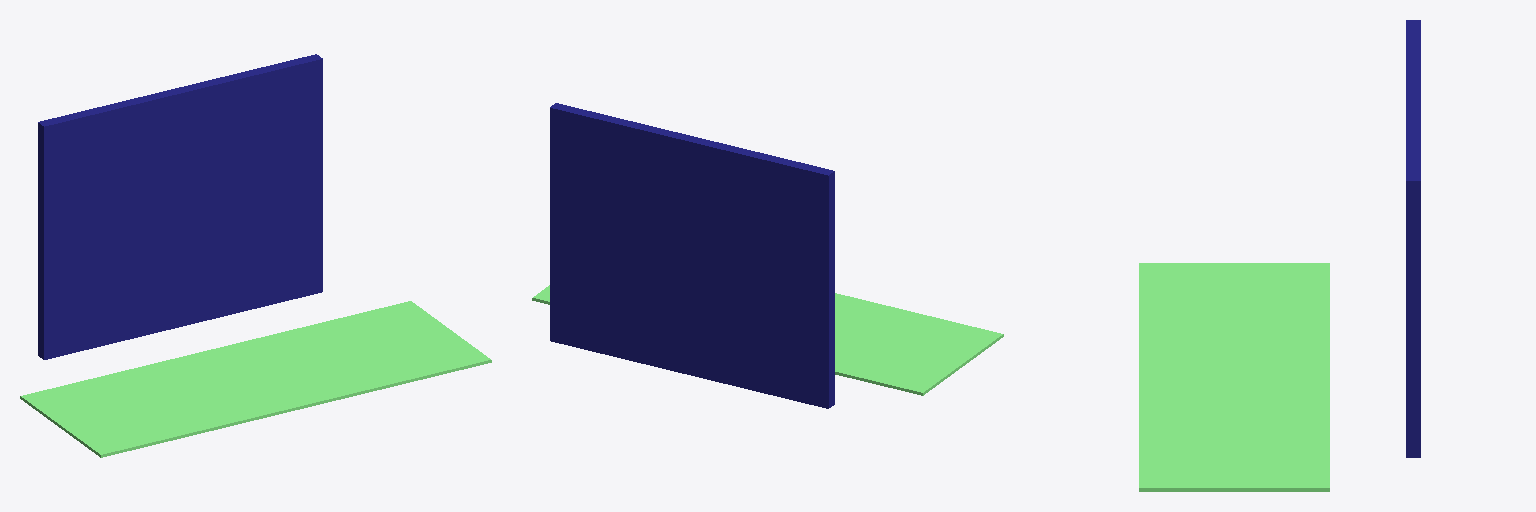
URDF robot description (dual_arm):
<?xml version="1.0" ?>
<!-- =================================================================================== -->
<!-- |    This document was autogenerated by xacro from ./dual.xacro                   | -->
<!-- |    EDITING THIS FILE BY HAND IS NOT RECOMMENDED                                 | -->
<!-- =================================================================================== -->
<robot name="dual_arm">
  <link name="world"/>
  <!-- wall behind robots -->
  <link name="base">
    <visual>
      <!-- <transparency value="0.8"/> -->
      <origin rpy="0 0 0" xyz="0 0.02 -.3"/>
      <geometry>
        <box size="1.0 0.04 0.8"/>
      </geometry>
      <material name="White">
        <color rgba="0.2 0.2 0.6 0.5"/>
      </material>
    </visual>
    <collision>
      <origin rpy="0 0 0" xyz="0 0.1 -.3"/>
      <geometry>
        <box size="1.0 0.04 0.8"/>
      </geometry>
    </collision>
    <inertial>
      <origin rpy="0 0 0" xyz="0.0 0.0 0.0"/>
      <mass value="10.0"/>
      <inertia ixx="0.001" ixy="0.0" ixz="0.001" iyy="0.0" iyz="0.0" izz="0.001"/>
    </inertial>
  </link>
  <!-- table -->
  <link name="table">
    <visual>
      <!-- <transparency value="0.8"/> -->
      <origin rpy="0 0 0" xyz="0 -0.45 0"/>
      <geometry>
        <box size="1.4 0.5 0.01"/>
      </geometry>
      <material name="White">
        <color rgba="0.6 1.0 0.6 0.5"/>
      </material>
    </visual>
    <collision>
      <origin rpy="0 0 0" xyz="0 -0.45 0"/>
      <geometry>
        <box size="1.4 0.5 0.01"/>
      </geometry>
    </collision>
    <inertial>
      <origin rpy="0.0 0.0 0.0" xyz="0.0 -0.45 0.0"/>
      <mass value="10.0"/>
      <inertia ixx="0.001" ixy="0.0" ixz="0.001" iyy="0.0" iyz="0.0" izz="0.001"/>
    </inertial>
  </link>
  <joint name="base_to_world" type="fixed">
    <parent link="world"/>
    <child link="base"/>
    <origin rpy="0 0 0" xyz="0 0 0.7"/>
  </joint>
  <joint name="table_to_world" type="fixed">
    <parent link="world"/>
    <child link="table"/>
    <origin rpy="0 0 0" xyz="0 0 0"/>
  </joint>
  <!--
    Base UR robot series xacro macro.

    NOTE this is NOT a URDF. It cannot directly be loaded by consumers
    expecting a flattened '.urdf' file. See the top-level '.xacro' for that
    (but note that .xacro must still be processed by the xacro command).

    This file models the base kinematic chain of a UR robot, which then gets
    parameterised by various configuration files to convert it into a UR3(e),
    UR5(e), UR10(e) or UR16e.

    NOTE the default kinematic parameters (i.e., link lengths, frame locations,
    offsets, etc) do not correspond to any particular robot. They are defaults
    only. There WILL be non-zero offsets between the Forward Kinematics results
    in TF (i.e., robot_state_publisher) and the values reported by the Teach
    Pendant.

    For accurate (and robot-specific) transforms, the 'kinematics_parameters_file'
    parameter MUST point to a .yaml file containing the appropriate values for
    the targeted robot.

    If using the UniversalRobots/Universal_Robots_ROS_Driver, follow the steps
    described in the readme of that repository to extract the kinematic
    calibration from the controller and generate the required .yaml file.

    Main author of the migration to yaml configs [author].

    Contributors to previous versions (in no particular order)

     - [author]
     - [author]
     - [author]
     - [author]
     - [author]
     - [author]
     - [author]
     - [author]
     - [author]
     - [author]
     - [author]
     - [author]
     - [author]
     - [author]
     - [author]
     - [author]
     - [author]
     - [author]
     - [author]
  -->
  <!-- links -  main serial chain -->
  <link name="lightning_base_link"/>
  <link name="lightning_base_link_inertia">
    <visual>
      <origin rpy="0 0 3.141592653589793" xyz="0 0 0"/>
      <geometry>
        <mesh filename="package://ur_description/meshes/ur5e/visual/base.dae"/>
      </geometry>
    </visual>
    <collision>
      <origin rpy="0 0 3.141592653589793" xyz="0 0 0"/>
      <geometry>
        <mesh filename="package://ur_description/meshes/ur5e/collision/base.stl"/>
      </geometry>
    </collision>
    <inertial>
      <mass value="4.0"/>
      <origin rpy="0 0 0" xyz="0 0 0"/>
      <inertia ixx="0.00443333156" ixy="0.0" ixz="0.0" iyy="0.00443333156" iyz="0.0" izz="0.0072"/>
    </inertial>
  </link>
  <link name="lightning_shoulder_link">
    <visual>
      <origin rpy="0 0 3.141592653589793" xyz="0 0 0"/>
      <geometry>
        <mesh filename="package://ur_description/meshes/ur5e/visual/shoulder.dae"/>
      </geometry>
    </visual>
    <collision>
      <origin rpy="0 0 3.141592653589793" xyz="0 0 0"/>
      <geometry>
        <mesh filename="package://ur_description/meshes/ur5e/collision/shoulder.stl"/>
      </geometry>
    </collision>
    <inertial>
      <mass value="3.7"/>
      <origin rpy="0 0 0" xyz="0 0 0"/>
      <inertia ixx="0.010267495893" ixy="0.0" ixz="0.0" iyy="0.010267495893" iyz="0.0" izz="0.00666"/>
    </inertial>
  </link>
  <link name="lightning_upper_arm_link">
    <visual>
      <origin rpy="1.5707963267948966 0 -1.5707963267948966" xyz="0 0 0.138"/>
      <geometry>
        <mesh filename="package://ur_description/meshes/ur5e/visual/upperarm.dae"/>
      </geometry>
    </visual>
    <collision>
      <origin rpy="1.5707963267948966 0 -1.5707963267948966" xyz="0 0 0.138"/>
      <geometry>
        <mesh filename="package://ur_description/meshes/ur5e/collision/upperarm.stl"/>
      </geometry>
    </collision>
    <inertial>
      <mass value="8.393"/>
      <origin rpy="0 1.5707963267948966 0" xyz="-0.2125 0.0 0.138"/>
      <inertia ixx="0.1338857818623325" ixy="0.0" ixz="0.0" iyy="0.1338857818623325" iyz="0.0" izz="0.0151074"/>
    </inertial>
  </link>
  <link name="lightning_forearm_link">
    <visual>
      <origin rpy="1.5707963267948966 0 -1.5707963267948966" xyz="0 0 0.007"/>
      <geometry>
        <mesh filename="package://ur_description/meshes/ur5e/visual/forearm.dae"/>
      </geometry>
    </visual>
    <collision>
      <origin rpy="1.5707963267948966 0 -1.5707963267948966" xyz="0 0 0.007"/>
      <geometry>
        <mesh filename="package://ur_description/meshes/ur5e/collision/forearm.stl"/>
      </geometry>
    </collision>
    <inertial>
      <mass value="2.275"/>
      <origin rpy="0 1.5707963267948966 0" xyz="-0.1961 0.0 0.007"/>
      <inertia ixx="0.031209355099586295" ixy="0.0" ixz="0.0" iyy="0.031209355099586295" iyz="0.0" izz="0.004095"/>
    </inertial>
  </link>
  <link name="lightning_wrist_1_link">
    <visual>
      <origin rpy="1.5707963267948966 0 0" xyz="0 0 -0.127"/>
      <geometry>
        <mesh filename="package://ur_description/meshes/ur5e/visual/wrist1.dae"/>
      </geometry>
    </visual>
    <collision>
      <origin rpy="1.5707963267948966 0 0" xyz="0 0 -0.127"/>
      <geometry>
        <mesh filename="package://ur_description/meshes/ur5e/collision/wrist1.stl"/>
      </geometry>
    </collision>
    <inertial>
      <mass value="1.219"/>
      <origin rpy="0 0 0" xyz="0 0 0"/>
      <inertia ixx="0.0025598989760400002" ixy="0.0" ixz="0.0" iyy="0.0025598989760400002" iyz="0.0" izz="0.0021942"/>
    </inertial>
  </link>
  <link name="lightning_wrist_2_link">
    <visual>
      <origin rpy="0 0 0" xyz="0 0 -0.0997"/>
      <geometry>
        <mesh filename="package://ur_description/meshes/ur5e/visual/wrist2.dae"/>
      </geometry>
    </visual>
    <collision>
      <origin rpy="0 0 0" xyz="0 0 -0.0997"/>
      <geometry>
        <mesh filename="package://ur_description/meshes/ur5e/collision/wrist2.stl"/>
      </geometry>
    </collision>
    <inertial>
      <mass value="1.219"/>
      <origin rpy="0 0 0" xyz="0 0 0"/>
      <inertia ixx="0.0025598989760400002" ixy="0.0" ixz="0.0" iyy="0.0025598989760400002" iyz="0.0" izz="0.0021942"/>
    </inertial>
  </link>
  <link name="lightning_wrist_3_link">
    <visual>
      <origin rpy="1.5707963267948966 0 0" xyz="0 0 -0.0989"/>
      <geometry>
        <mesh filename="package://ur_description/meshes/ur5e/visual/wrist3.dae"/>
      </geometry>
    </visual>
    <collision>
      <origin rpy="1.5707963267948966 0 0" xyz="0 0 -0.0989"/>
      <geometry>
        <mesh filename="package://ur_description/meshes/ur5e/collision/wrist3.stl"/>
      </geometry>
    </collision>
    <inertial>
      <mass value="0.1879"/>
      <origin rpy="0 0 0" xyz="0.0 0.0 -0.0229"/>
      <inertia ixx="9.890410052167731e-05" ixy="0.0" ixz="0.0" iyy="9.890410052167731e-05" iyz="0.0" izz="0.0001321171875"/>
    </inertial>
  </link>
  <!-- base_joint fixes base_link to the environment -->
  <joint name="lightning_base_joint" type="fixed">
    <origin rpy="2.208 1.561 0.622" xyz="0.3715 0 0"/>
    <parent link="base"/>
    <child link="lightning_base_link"/>
  </joint>
  <!-- joints - main serial chain -->
  <joint name="lightning_base_link-base_link_inertia" type="fixed">
    <parent link="lightning_base_link"/>
    <child link="lightning_base_link_inertia"/>
    <!-- 'base_link' is REP-103 aligned (so X+ forward), while the internal
           frames of the robot/controller have X+ pointing backwards.
           Use the joint between 'base_link' and 'base_link_inertia' (a dummy
           link/frame) to introduce the necessary rotation over Z (of pi rad).
      -->
    <origin rpy="0 0 3.141592653589793" xyz="0 0 0"/>
  </joint>
  <joint name="lightning_shoulder_pan_joint" type="revolute">
    <parent link="lightning_base_link_inertia"/>
    <child link="lightning_shoulder_link"/>
    <origin rpy="0 0 0" xyz="0 0 0.1625"/>
    <axis xyz="0 0 1"/>
    <limit effort="150.0" lower="-6.283185307179586" upper="6.283185307179586" velocity="3.141592653589793"/>
    <dynamics damping="0" friction="0"/>
  </joint>
  <joint name="lightning_shoulder_lift_joint" type="revolute">
    <parent link="lightning_shoulder_link"/>
    <child link="lightning_upper_arm_link"/>
    <origin rpy="1.570796327 0 0" xyz="0 0 0"/>
    <axis xyz="0 0 1"/>
    <limit effort="150.0" lower="-6.283185307179586" upper="6.283185307179586" velocity="3.141592653589793"/>
    <dynamics damping="0" friction="0"/>
  </joint>
  <joint name="lightning_elbow_joint" type="revolute">
    <parent link="lightning_upper_arm_link"/>
    <child link="lightning_forearm_link"/>
    <origin rpy="0 0 0" xyz="-0.425 0 0"/>
    <axis xyz="0 0 1"/>
    <limit effort="150.0" lower="-3.141592653589793" upper="3.141592653589793" velocity="3.141592653589793"/>
    <dynamics damping="0" friction="0"/>
  </joint>
  <joint name="lightning_wrist_1_joint" type="revolute">
    <parent link="lightning_forearm_link"/>
    <child link="lightning_wrist_1_link"/>
    <origin rpy="0 0 0" xyz="-0.3922 0 0.1333"/>
    <axis xyz="0 0 1"/>
    <limit effort="28.0" lower="-6.283185307179586" upper="6.283185307179586" velocity="3.141592653589793"/>
    <dynamics damping="0" friction="0"/>
  </joint>
  <joint name="lightning_wrist_2_joint" type="revolute">
    <parent link="lightning_wrist_1_link"/>
    <child link="lightning_wrist_2_link"/>
    <origin rpy="1.570796327 0 0" xyz="0 -0.0997 -2.044881182297852e-11"/>
    <axis xyz="0 0 1"/>
    <limit effort="28.0" lower="-6.283185307179586" upper="6.283185307179586" velocity="3.141592653589793"/>
    <dynamics damping="0" friction="0"/>
  </joint>
  <joint name="lightning_wrist_3_joint" type="revolute">
    <parent link="lightning_wrist_2_link"/>
    <child link="lightning_wrist_3_link"/>
    <origin rpy="1.570796326589793 3.141592653589793 3.141592653589793" xyz="0 0.0996 -2.042830148012698e-11"/>
    <axis xyz="0 0 1"/>
    <limit effort="28.0" lower="-6.283185307179586" upper="6.283185307179586" velocity="3.141592653589793"/>
    <dynamics damping="0" friction="0"/>
  </joint>
  <link name="lightning_ft_frame"/>
  <joint name="lightning_wrist_3_link-ft_frame" type="fixed">
    <parent link="lightning_wrist_3_link"/>
    <child link="lightning_ft_frame"/>
    <origin rpy="3.141592653589793 0 0" xyz="0 0 0"/>
  </joint>
  <!-- ROS-Industrial 'base' frame - base_link to UR 'Base' Coordinates transform -->
  <link name="lightning_base"/>
  <joint name="lightning_base_link-base_fixed_joint" type="fixed">
    <!-- Note the rotation over Z of pi radians - as base_link is REP-103
           aligned (i.e., has X+ forward, Y+ left and Z+ up), this is needed
           to correctly align 'base' with the 'Base' coordinate system of
           the UR controller.
      -->
    <origin rpy="0 0 3.141592653589793" xyz="0 0 0"/>
    <parent link="lightning_base_link"/>
    <child link="lightning_base"/>
  </joint>
  <!-- ROS-Industrial 'flange' frame - attachment point for EEF models -->
  <link name="lightning_flange"/>
  <joint name="lightning_wrist_3-flange" type="fixed">
    <parent link="lightning_wrist_3_link"/>
    <child link="lightning_flange"/>
    <origin rpy="0 -1.5707963267948966 -1.5707963267948966" xyz="0 0 0"/>
  </joint>
  <!-- ROS-Industrial 'tool0' frame - all-zeros tool frame -->
  <link name="lightning_tool0"/>
  <joint name="lightning_flange-tool0" type="fixed">
    <!-- default toolframe - X+ left, Y+ up, Z+ front -->
    <origin rpy="1.5707963267948966 0 1.5707963267948966" xyz="0 0 0"/>
    <parent link="lightning_flange"/>
    <child link="lightning_tool0"/>
  </joint>
  <!-- links -  main serial chain -->
  <link name="thunder_base_link"/>
  <link name="thunder_base_link_inertia">
    <visual>
      <origin rpy="0 0 3.141592653589793" xyz="0 0 0"/>
      <geometry>
        <mesh filename="package://ur_description/meshes/ur5e/visual/base.dae"/>
      </geometry>
    </visual>
    <collision>
      <origin rpy="0 0 3.141592653589793" xyz="0 0 0"/>
      <geometry>
        <mesh filename="package://ur_description/meshes/ur5e/collision/base.stl"/>
      </geometry>
    </collision>
    <inertial>
      <mass value="4.0"/>
      <origin rpy="0 0 0" xyz="0 0 0"/>
      <inertia ixx="0.00443333156" ixy="0.0" ixz="0.0" iyy="0.00443333156" iyz="0.0" izz="0.0072"/>
    </inertial>
  </link>
  <link name="thunder_shoulder_link">
    <visual>
      <origin rpy="0 0 3.141592653589793" xyz="0 0 0"/>
      <geometry>
        <mesh filename="package://ur_description/meshes/ur5e/visual/shoulder.dae"/>
      </geometry>
    </visual>
    <collision>
      <origin rpy="0 0 3.141592653589793" xyz="0 0 0"/>
      <geometry>
        <mesh filename="package://ur_description/meshes/ur5e/collision/shoulder.stl"/>
      </geometry>
    </collision>
    <inertial>
      <mass value="3.7"/>
      <origin rpy="0 0 0" xyz="0 0 0"/>
      <inertia ixx="0.010267495893" ixy="0.0" ixz="0.0" iyy="0.010267495893" iyz="0.0" izz="0.00666"/>
    </inertial>
  </link>
  <link name="thunder_upper_arm_link">
    <visual>
      <origin rpy="1.5707963267948966 0 -1.5707963267948966" xyz="0 0 0.138"/>
      <geometry>
        <mesh filename="package://ur_description/meshes/ur5e/visual/upperarm.dae"/>
      </geometry>
    </visual>
    <collision>
      <origin rpy="1.5707963267948966 0 -1.5707963267948966" xyz="0 0 0.138"/>
      <geometry>
        <mesh filename="package://ur_description/meshes/ur5e/collision/upperarm.stl"/>
      </geometry>
    </collision>
    <inertial>
      <mass value="8.393"/>
      <origin rpy="0 1.5707963267948966 0" xyz="-0.2125 0.0 0.138"/>
      <inertia ixx="0.1338857818623325" ixy="0.0" ixz="0.0" iyy="0.1338857818623325" iyz="0.0" izz="0.0151074"/>
    </inertial>
  </link>
  <link name="thunder_forearm_link">
    <visual>
      <origin rpy="1.5707963267948966 0 -1.5707963267948966" xyz="0 0 0.007"/>
      <geometry>
        <mesh filename="package://ur_description/meshes/ur5e/visual/forearm.dae"/>
      </geometry>
    </visual>
    <collision>
      <origin rpy="1.5707963267948966 0 -1.5707963267948966" xyz="0 0 0.007"/>
      <geometry>
        <mesh filename="package://ur_description/meshes/ur5e/collision/forearm.stl"/>
      </geometry>
    </collision>
    <inertial>
      <mass value="2.275"/>
      <origin rpy="0 1.5707963267948966 0" xyz="-0.1961 0.0 0.007"/>
      <inertia ixx="0.031209355099586295" ixy="0.0" ixz="0.0" iyy="0.031209355099586295" iyz="0.0" izz="0.004095"/>
    </inertial>
  </link>
  <link name="thunder_wrist_1_link">
    <visual>
      <origin rpy="1.5707963267948966 0 0" xyz="0 0 -0.127"/>
      <geometry>
        <mesh filename="package://ur_description/meshes/ur5e/visual/wrist1.dae"/>
      </geometry>
    </visual>
    <collision>
      <origin rpy="1.5707963267948966 0 0" xyz="0 0 -0.127"/>
      <geometry>
        <mesh filename="package://ur_description/meshes/ur5e/collision/wrist1.stl"/>
      </geometry>
    </collision>
    <inertial>
      <mass value="1.219"/>
      <origin rpy="0 0 0" xyz="0 0 0"/>
      <inertia ixx="0.0025598989760400002" ixy="0.0" ixz="0.0" iyy="0.0025598989760400002" iyz="0.0" izz="0.0021942"/>
    </inertial>
  </link>
  <link name="thunder_wrist_2_link">
    <visual>
      <origin rpy="0 0 0" xyz="0 0 -0.0997"/>
      <geometry>
        <mesh filename="package://ur_description/meshes/ur5e/visual/wrist2.dae"/>
      </geometry>
    </visual>
    <collision>
      <origin rpy="0 0 0" xyz="0 0 -0.0997"/>
      <geometry>
        <mesh filename="package://ur_description/meshes/ur5e/collision/wrist2.stl"/>
      </geometry>
    </collision>
    <inertial>
      <mass value="1.219"/>
      <origin rpy="0 0 0" xyz="0 0 0"/>
      <inertia ixx="0.0025598989760400002" ixy="0.0" ixz="0.0" iyy="0.0025598989760400002" iyz="0.0" izz="0.0021942"/>
    </inertial>
  </link>
  <link name="thunder_wrist_3_link">
    <visual>
      <origin rpy="1.5707963267948966 0 0" xyz="0 0 -0.0989"/>
      <geometry>
        <mesh filename="package://ur_description/meshes/ur5e/visual/wrist3.dae"/>
      </geometry>
    </visual>
    <collision>
      <origin rpy="1.5707963267948966 0 0" xyz="0 0 -0.0989"/>
      <geometry>
        <mesh filename="package://ur_description/meshes/ur5e/collision/wrist3.stl"/>
      </geometry>
    </collision>
    <inertial>
      <mass value="0.1879"/>
      <origin rpy="0 0 0" xyz="0.0 0.0 -0.0229"/>
      <inertia ixx="9.890410052167731e-05" ixy="0.0" ixz="0.0" iyy="9.890410052167731e-05" iyz="0.0" izz="0.0001321171875"/>
    </inertial>
  </link>
  <!-- base_joint fixes base_link to the environment -->
  <joint name="thunder_base_joint" type="fixed">
    <origin rpy="1.5708 -1.571 0.000" xyz="-0.3715 0 0"/>
    <parent link="base"/>
    <child link="thunder_base_link"/>
  </joint>
  <!-- joints - main serial chain -->
  <joint name="thunder_base_link-base_link_inertia" type="fixed">
    <parent link="thunder_base_link"/>
    <child link="thunder_base_link_inertia"/>
    <!-- 'base_link' is REP-103 aligned (so X+ forward), while the internal
           frames of the robot/controller have X+ pointing backwards.
           Use the joint between 'base_link' and 'base_link_inertia' (a dummy
           link/frame) to introduce the necessary rotation over Z (of pi rad).
      -->
    <origin rpy="0 0 3.141592653589793" xyz="0 0 0"/>
  </joint>
  <joint name="thunder_shoulder_pan_joint" type="revolute">
    <parent link="thunder_base_link_inertia"/>
    <child link="thunder_shoulder_link"/>
    <origin rpy="0 0 0" xyz="0 0 0.1625"/>
    <axis xyz="0 0 1"/>
    <limit effort="150.0" lower="-6.283185307179586" upper="6.283185307179586" velocity="3.141592653589793"/>
    <dynamics damping="0" friction="0"/>
  </joint>
  <joint name="thunder_shoulder_lift_joint" type="revolute">
    <parent link="thunder_shoulder_link"/>
    <child link="thunder_upper_arm_link"/>
    <origin rpy="1.570796327 0 0" xyz="0 0 0"/>
    <axis xyz="0 0 1"/>
    <limit effort="150.0" lower="-6.283185307179586" upper="6.283185307179586" velocity="3.141592653589793"/>
    <dynamics damping="0" friction="0"/>
  </joint>
  <joint name="thunder_elbow_joint" type="revolute">
    <parent link="thunder_upper_arm_link"/>
    <child link="thunder_forearm_link"/>
    <origin rpy="0 0 0" xyz="-0.425 0 0"/>
    <axis xyz="0 0 1"/>
    <limit effort="150.0" lower="-3.141592653589793" upper="3.141592653589793" velocity="3.141592653589793"/>
    <dynamics damping="0" friction="0"/>
  </joint>
  <joint name="thunder_wrist_1_joint" type="revolute">
    <parent link="thunder_forearm_link"/>
    <child link="thunder_wrist_1_link"/>
    <origin rpy="0 0 0" xyz="-0.3922 0 0.1333"/>
    <axis xyz="0 0 1"/>
    <limit effort="28.0" lower="-6.283185307179586" upper="6.283185307179586" velocity="3.141592653589793"/>
    <dynamics damping="0" friction="0"/>
  </joint>
  <joint name="thunder_wrist_2_joint" type="revolute">
    <parent link="thunder_wrist_1_link"/>
    <child link="thunder_wrist_2_link"/>
    <origin rpy="1.570796327 0 0" xyz="0 -0.0997 -2.044881182297852e-11"/>
    <axis xyz="0 0 1"/>
    <limit effort="28.0" lower="-6.283185307179586" upper="6.283185307179586" velocity="3.141592653589793"/>
    <dynamics damping="0" friction="0"/>
  </joint>
  <joint name="thunder_wrist_3_joint" type="revolute">
    <parent link="thunder_wrist_2_link"/>
    <child link="thunder_wrist_3_link"/>
    <origin rpy="1.570796326589793 3.141592653589793 3.141592653589793" xyz="0 0.0996 -2.042830148012698e-11"/>
    <axis xyz="0 0 1"/>
    <limit effort="28.0" lower="-6.283185307179586" upper="6.283185307179586" velocity="3.141592653589793"/>
    <dynamics damping="0" friction="0"/>
  </joint>
  <link name="thunder_ft_frame"/>
  <joint name="thunder_wrist_3_link-ft_frame" type="fixed">
    <parent link="thunder_wrist_3_link"/>
    <child link="thunder_ft_frame"/>
    <origin rpy="3.141592653589793 0 0" xyz="0 0 0"/>
  </joint>
  <!-- ROS-Industrial 'base' frame - base_link to UR 'Base' Coordinates transform -->
  <link name="thunder_base"/>
  <joint name="thunder_base_link-base_fixed_joint" type="fixed">
    <!-- Note the rotation over Z of pi radians - as base_link is REP-103
           aligned (i.e., has X+ forward, Y+ left and Z+ up), this is needed
           to correctly align 'base' with the 'Base' coordinate system of
           the UR controller.
      -->
    <origin rpy="0 0 3.141592653589793" xyz="0 0 0"/>
    <parent link="thunder_base_link"/>
    <child link="thunder_base"/>
  </joint>
  <!-- ROS-Industrial 'flange' frame - attachment point for EEF models -->
  <link name="thunder_flange"/>
  <joint name="thunder_wrist_3-flange" type="fixed">
    <parent link="thunder_wrist_3_link"/>
    <child link="thunder_flange"/>
    <origin rpy="0 -1.5707963267948966 -1.5707963267948966" xyz="0 0 0"/>
  </joint>
  <!-- ROS-Industrial 'tool0' frame - all-zeros tool frame -->
  <link name="thunder_tool0"/>
  <joint name="thunder_flange-tool0" type="fixed">
    <!-- default toolframe - X+ left, Y+ up, Z+ front -->
    <origin rpy="1.5707963267948966 0 1.5707963267948966" xyz="0 0 0"/>
    <parent link="thunder_flange"/>
    <child link="thunder_tool0"/>
  </joint>
</robot>

--- Facts derived from the render (not from the file) ---
Views: 3 orthographic renders of the robot side by side, from view 1: azimuth 30°, elevation 25°; view 2: azimuth 150°, elevation 25°; view 3: azimuth 270°, elevation 25°.
Model dual_arm with 27 links and 26 joints (12 revolute, 14 fixed), rooted at world, posed all joints at 0.
Links seen in each view (by area): view 1: base, table; view 2: base, table; view 3: table, base.
Boxes of the visible links, <box> form: base: <box>38,54,322,359</box>; table: <box>20,301,491,457</box>; base: <box>550,103,834,408</box>; table: <box>532,285,1003,395</box>; table: <box>1139,263,1329,491</box>; base: <box>1406,20,1420,457</box>.
Size in the robot's own frame: 1.4 by 0.74 by 0.805 metres.
0 mesh visuals loaded from 7 distinct referenced files (none loaded); not drawn: 14 (reference not matched to a file when rendering).